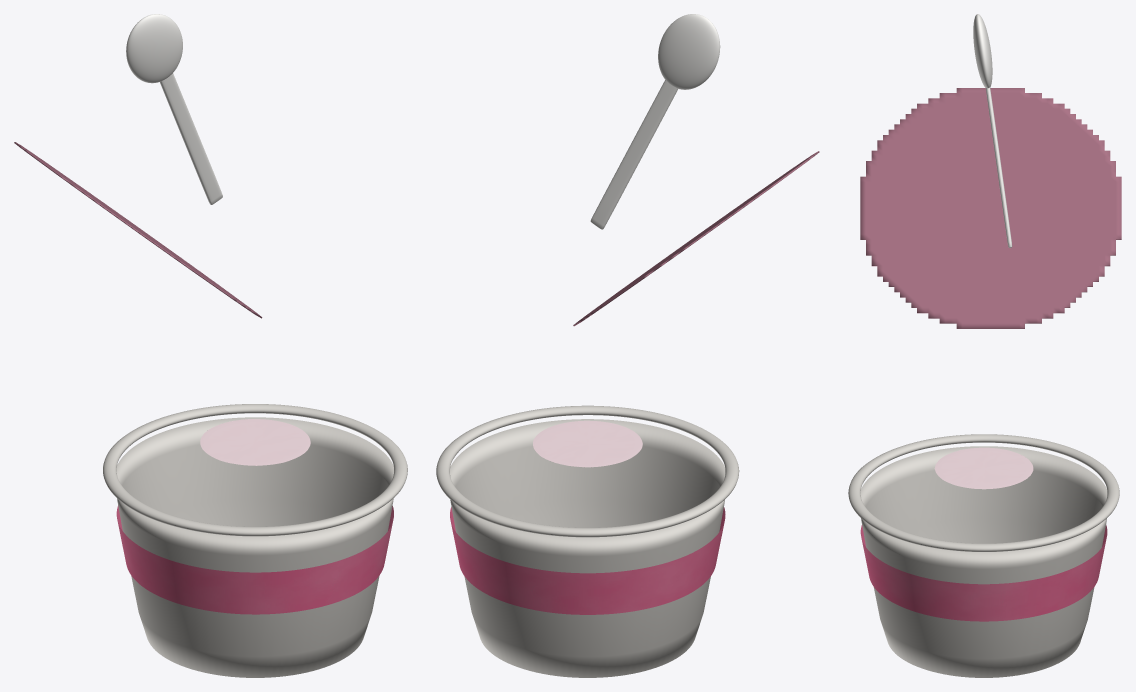
Rendered from yoplait.glb.
3 views of the same model, side by side, from view 1: azimuth 30°, elevation 25°; view 2: azimuth 150°, elevation 25°; view 3: azimuth 270°, elevation 25° (orthographic). The views are drawn at different scales.
Visible parts, largest first — view 1: cup, band, rim.001, spoon, yogurt, lid; view 2: cup, band, rim.001, spoon, yogurt, lid; view 3: lid, cup, band, rim.001, yogurt, spoon.
Boxes of the visible parts, left/top/right/bottom form: cup: left=116, top=417, right=393, bottom=677; band: left=116, top=505, right=393, bottom=614; rim.001: left=103, top=404, right=407, bottom=536; spoon: left=126, top=14, right=222, bottom=204; yogurt: left=200, top=419, right=310, bottom=465; lid: left=14, top=142, right=262, bottom=318; cup: left=450, top=419, right=725, bottom=677; band: left=450, top=507, right=725, bottom=614; rim.001: left=436, top=405, right=739, bottom=537; spoon: left=590, top=14, right=720, bottom=229; yogurt: left=533, top=420, right=642, bottom=467; lid: left=573, top=151, right=819, bottom=326; lid: left=860, top=88, right=1121, bottom=328; cup: left=860, top=446, right=1107, bottom=677; band: left=860, top=525, right=1107, bottom=621; rim.001: left=848, top=434, right=1119, bottom=551; yogurt: left=934, top=447, right=1033, bottom=489; spoon: left=973, top=14, right=1012, bottom=247.
Size of the model in its own units: 2.56 by 4.68 by 2.
Materials: 5 (3 with a texture image).
